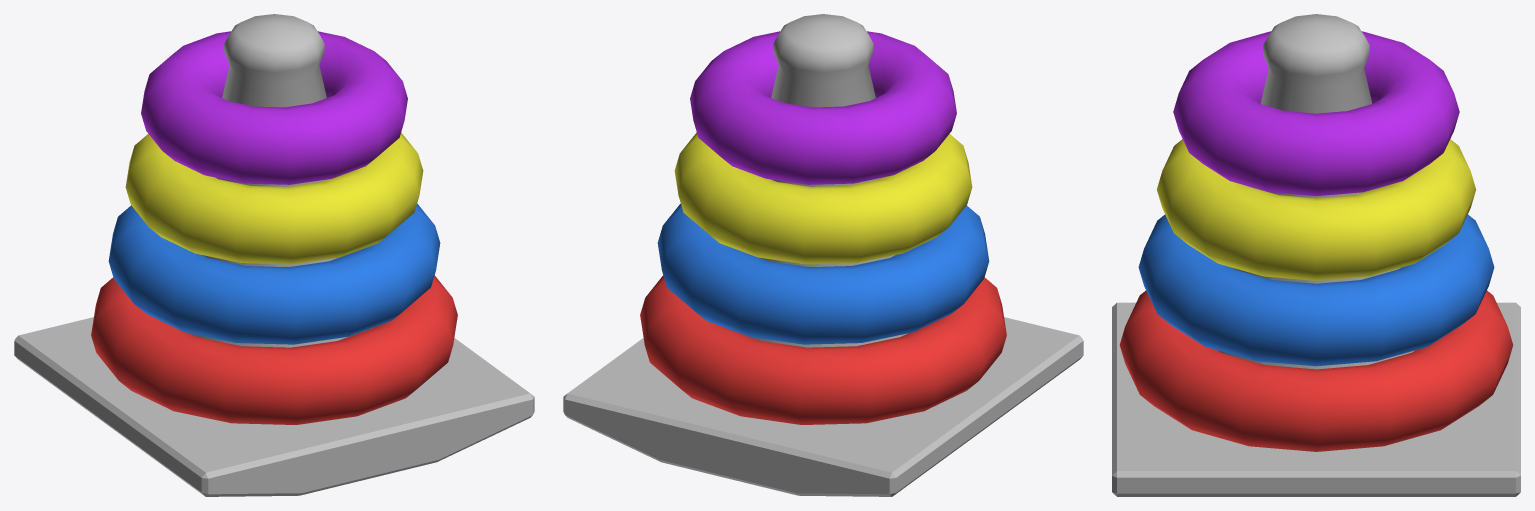
Rendered from toy.glb.
The picture shows the model from 3 angles, left to right: view 1: azimuth 30°, elevation 25°; view 2: azimuth 150°, elevation 25°; view 3: azimuth 270°, elevation 25°; orthographic projection. The views are drawn at different scales.
Parts seen in each view (by area): view 1: Object_6, Object_2, Object_3, Object_5, Object_4; view 2: Object_6, Object_2, Object_3, Object_5, Object_4; view 3: Object_6, Object_2, Object_3, Object_5, Object_4.
Part boxes in pixels (left/top/right/bottom): Object_6: left=14, top=14, right=534, bottom=496; Object_2: left=91, top=275, right=457, bottom=424; Object_3: left=108, top=203, right=440, bottom=344; Object_5: left=141, top=31, right=407, bottom=184; Object_4: left=125, top=132, right=423, bottom=264; Object_6: left=563, top=14, right=1083, bottom=496; Object_2: left=640, top=275, right=1006, bottom=424; Object_3: left=657, top=203, right=989, bottom=344; Object_5: left=690, top=31, right=956, bottom=184; Object_4: left=674, top=132, right=972, bottom=264; Object_6: left=1112, top=14, right=1520, bottom=496; Object_2: left=1119, top=290, right=1513, bottom=451; Object_3: left=1138, top=214, right=1494, bottom=366; Object_5: left=1173, top=31, right=1459, bottom=196; Object_4: left=1156, top=139, right=1476, bottom=280.
Size of the model in its own units: 0.2743 by 0.3052 by 0.2743.
